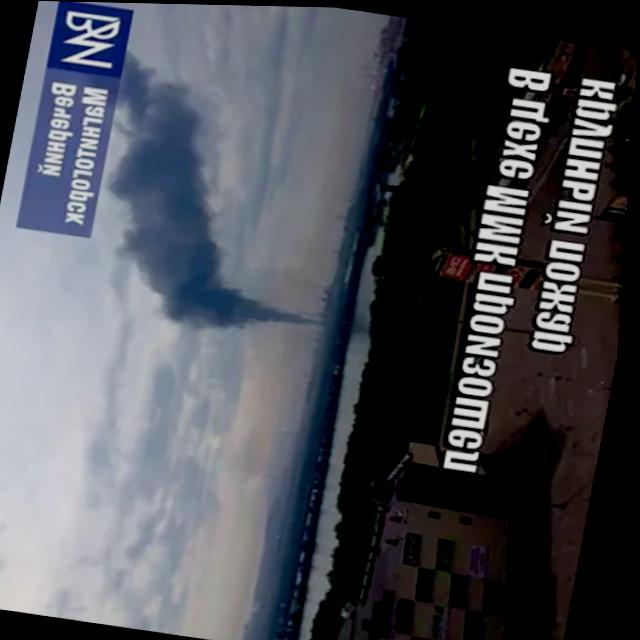no_helmet: (82, 51, 376, 344)
